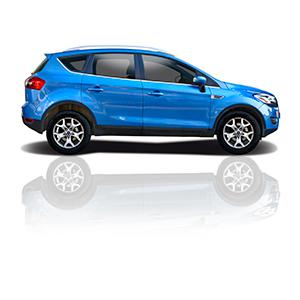car: (18, 44, 292, 161)
